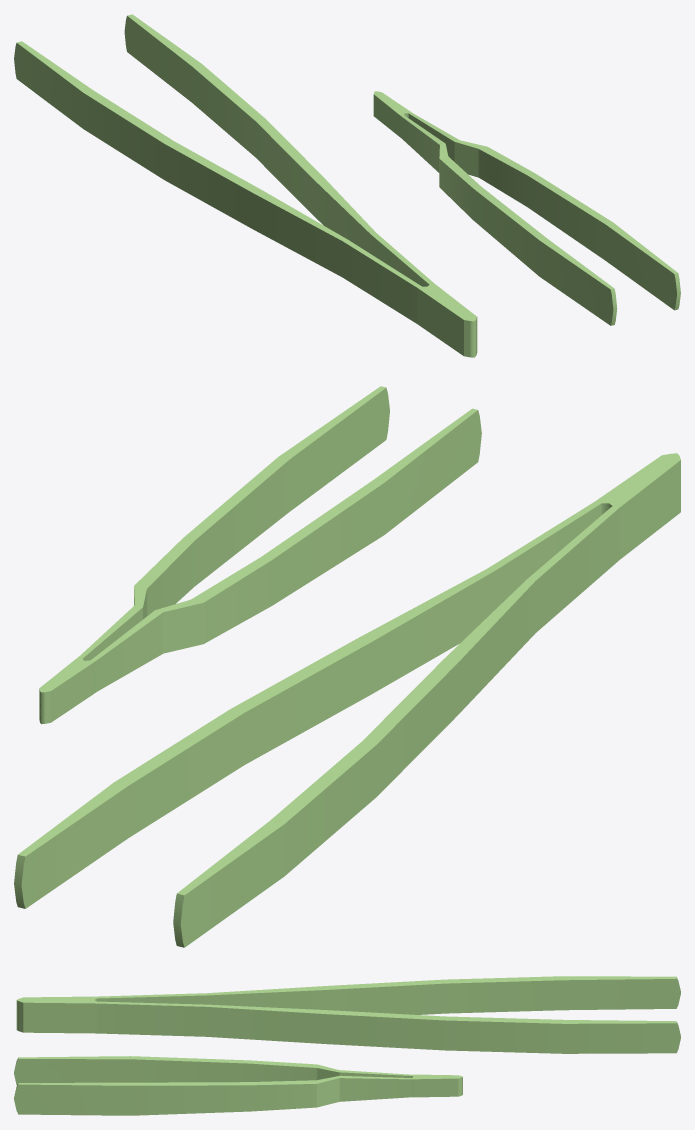
Rendered from Tweezers.obj.
3 renders of one model, top to bottom at view 1: azimuth 30°, elevation 25°; view 2: azimuth 150°, elevation 25°; view 3: azimuth 270°, elevation 25°, orthographic. The views are drawn at different scales.
Parts seen in each view (by area): view 1: Tweezers1, tweezer2; view 2: Tweezers1, tweezer2; view 3: Tweezers1, tweezer2.
Part boxes in pixels (x1,y1,x2,y2): Tweezers1: [14, 14, 477, 357]; tweezer2: [373, 91, 680, 325]; Tweezers1: [14, 453, 680, 947]; tweezer2: [39, 386, 481, 724]; Tweezers1: [16, 976, 680, 1053]; tweezer2: [14, 1056, 462, 1115].
Bounding box in the file's own units: 1.82 × 0.2538 × 4.78.
